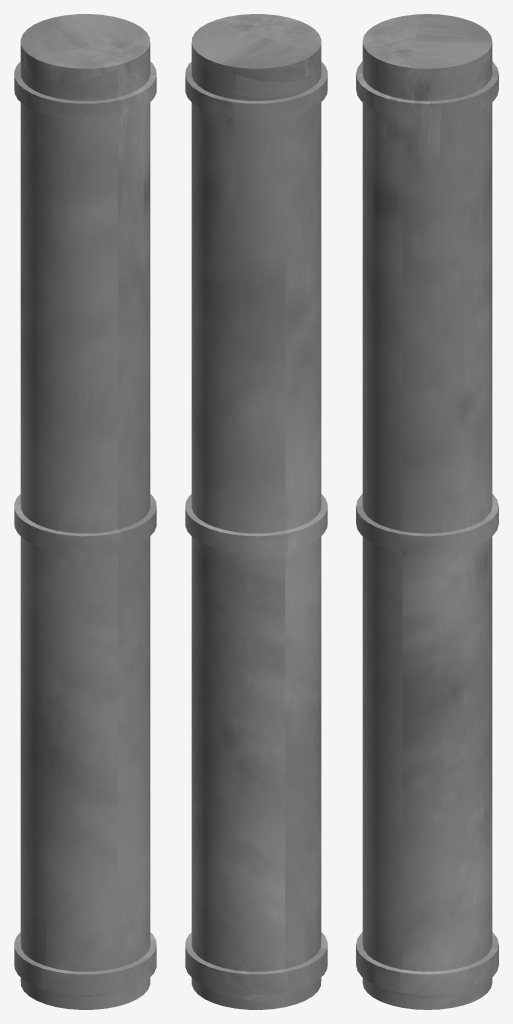
File: Pipe.fbx
3 renders of one model, left to right at view 1: azimuth 30°, elevation 25°; view 2: azimuth 150°, elevation 25°; view 3: azimuth 270°, elevation 25°, orthographic.
Parts seen in each view (by area): view 1: Cylinder.005; view 2: Cylinder.005; view 3: Cylinder.005.
Boxes of the visible parts, x1=… form: Cylinder.005: x1=14, y1=14, x2=156, y2=1009; Cylinder.005: x1=185, y1=14, x2=327, y2=1009; Cylinder.005: x1=356, y1=14, x2=498, y2=1009.
Bounding box in the file's own units: 110 × 800 × 110.
1 material, 1 textured.
